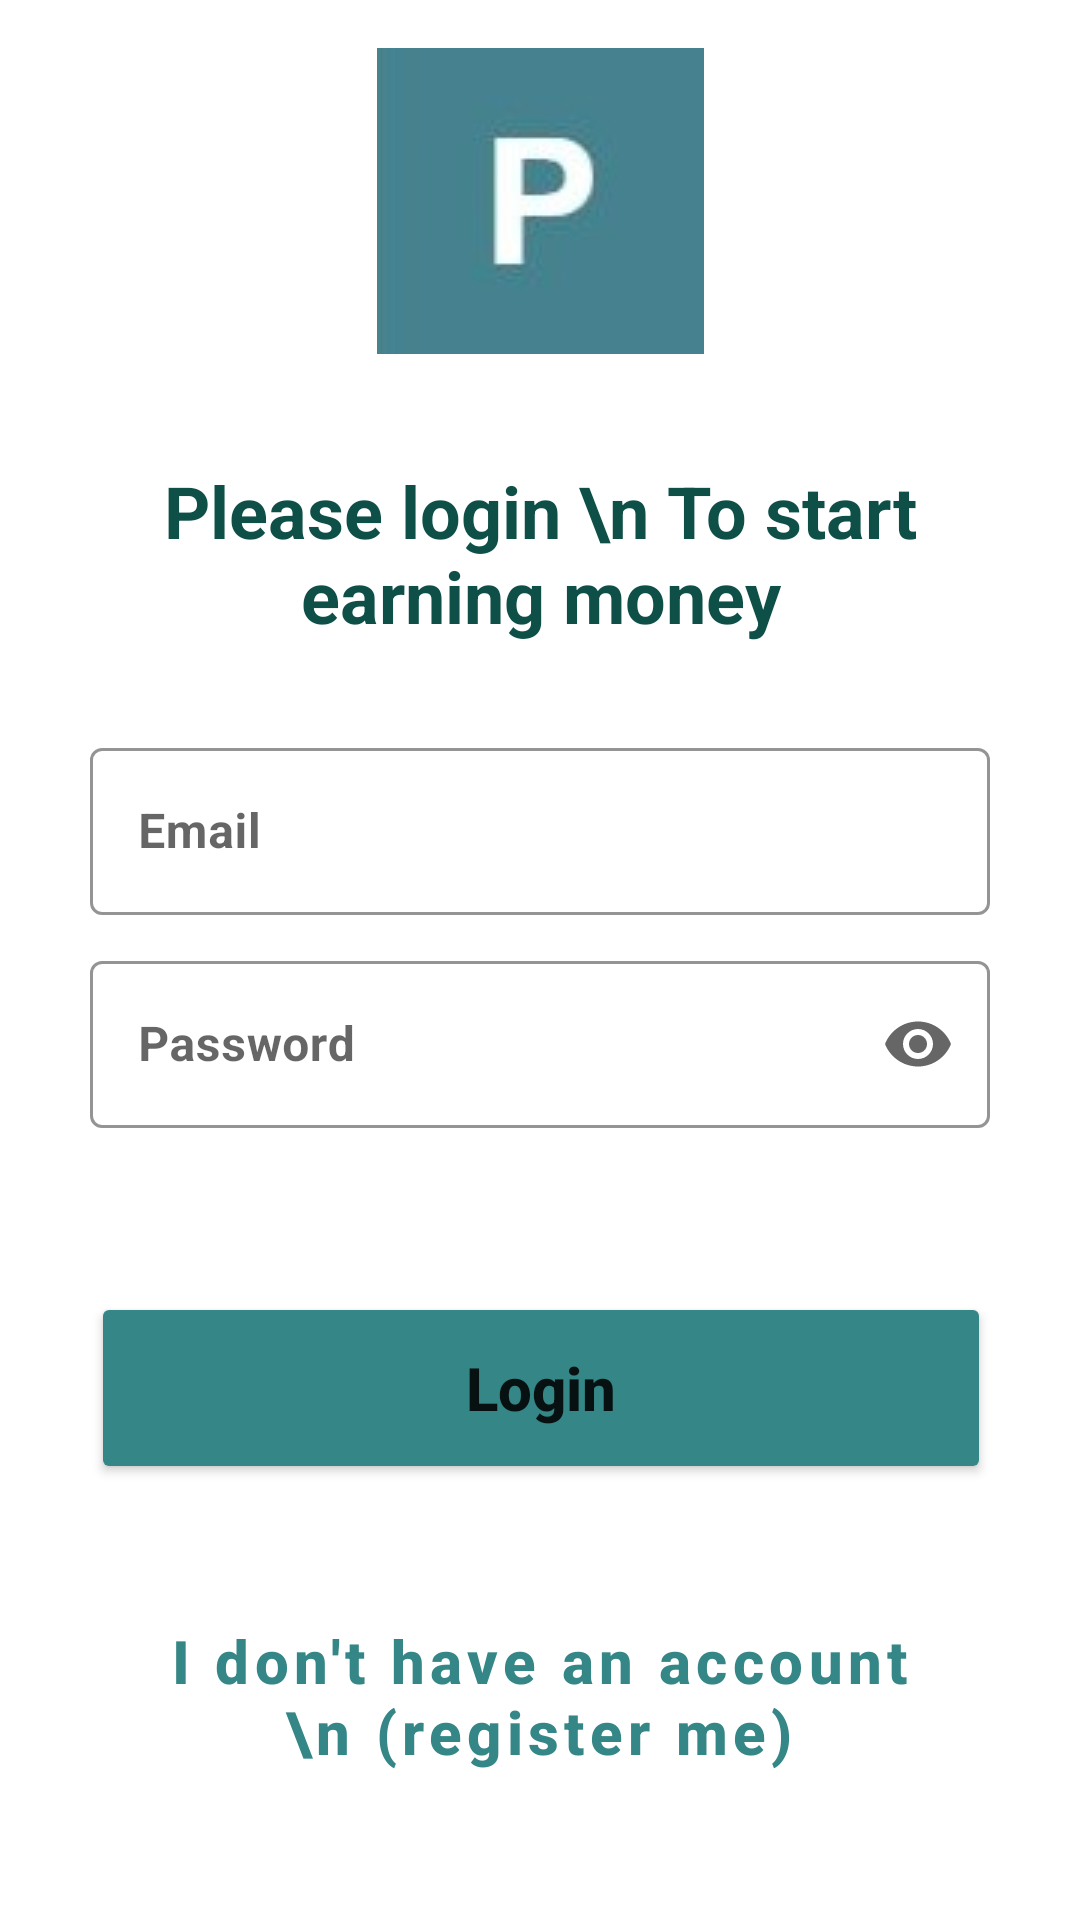

Named icons in this screenshot (1080px x 1920px) and their bounding boxes, (x1=x1, y1=y1, x2=x2, y2=y2):
appicon: (x1=377, y1=48, x2=704, y2=354)
